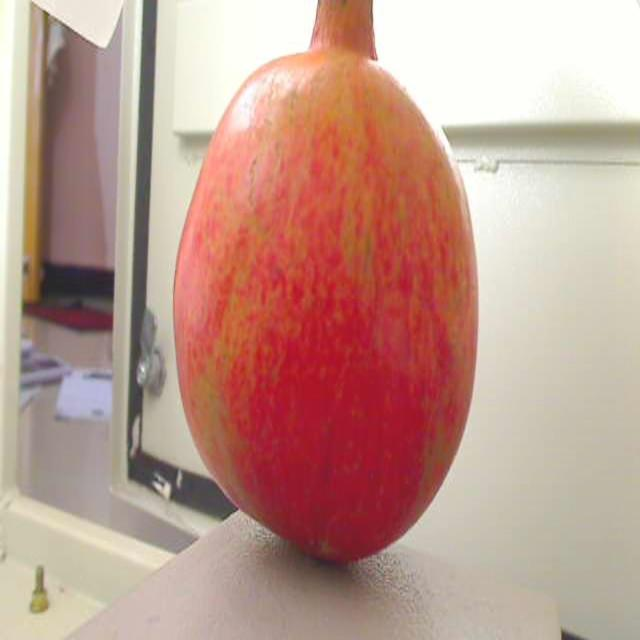pomegranate: (160, 0, 489, 577)
